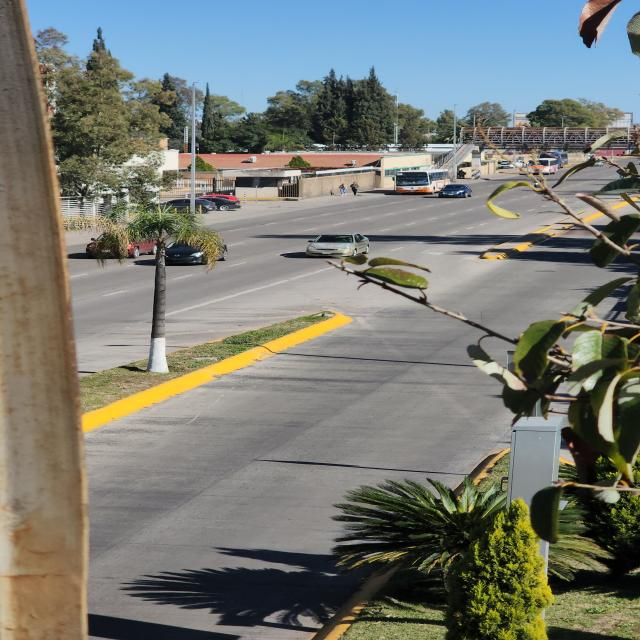Auto: (130, 239, 205, 265), (305, 233, 371, 260), (159, 194, 241, 213), (200, 194, 243, 212), (437, 184, 472, 200)
Peaton: (351, 182, 358, 197), (339, 184, 346, 197)
